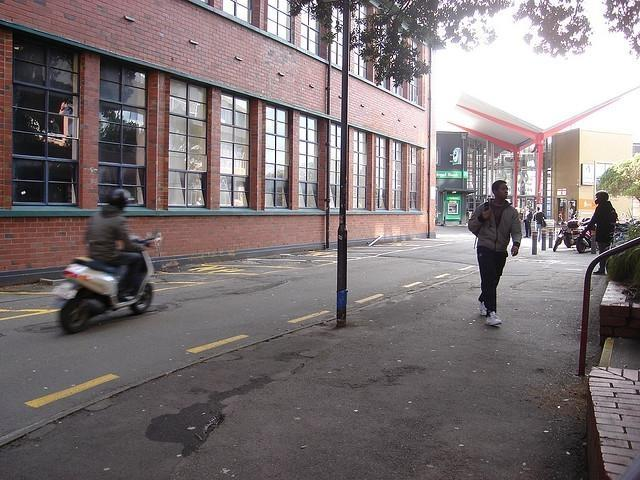motorcycle: (54, 233, 162, 332), (553, 221, 584, 252), (576, 230, 590, 253)
